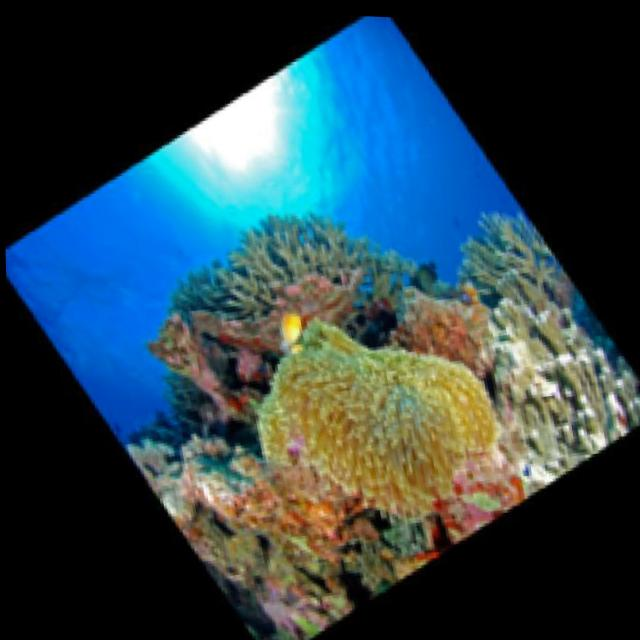Healthy Coral: (246, 291, 520, 543), (144, 226, 396, 398), (479, 272, 628, 465), (382, 253, 531, 382)
